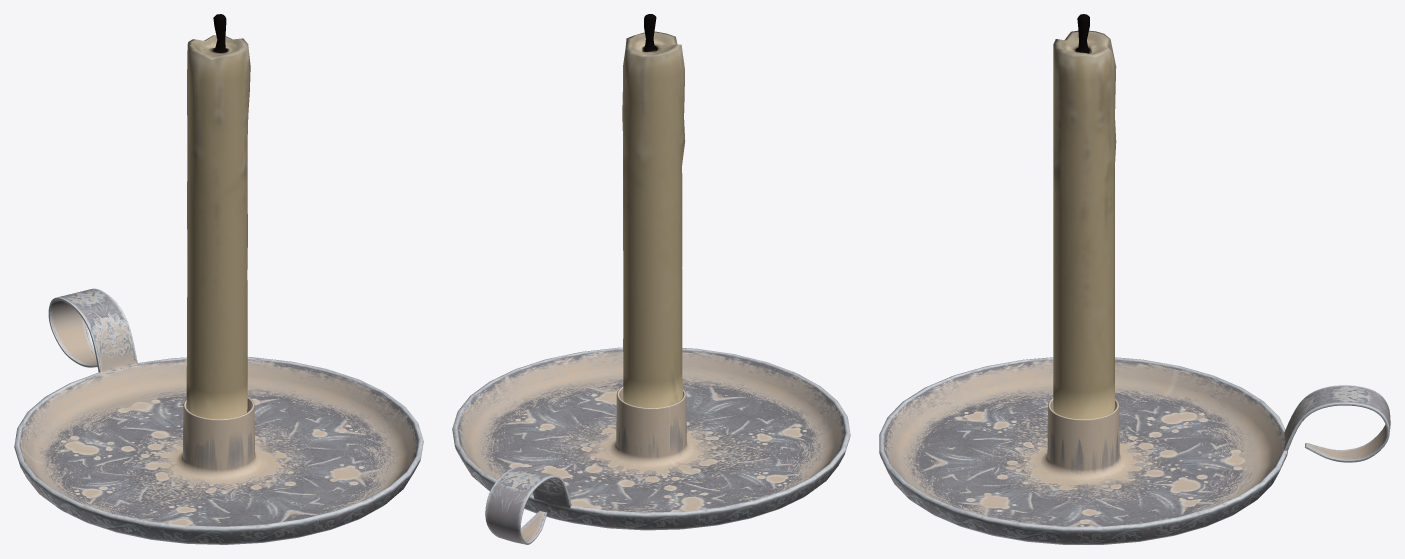
File: CandleHolder2.fbx
3 views of the same model, side by side, from view 1: azimuth 30°, elevation 25°; view 2: azimuth 150°, elevation 25°; view 3: azimuth 270°, elevation 25° (orthographic). The views are drawn at different scales.
Visible parts, largest first — view 1: CandlePlate_01_low, Candle_9.009; view 2: CandlePlate_01_low, Candle_9.009; view 3: CandlePlate_01_low, Candle_9.009.
Part boxes in pixels (x1=…): CandlePlate_01_low: x1=14, y1=288, x2=423, y2=544; Candle_9.009: x1=186, y1=14, x2=250, y2=419; CandlePlate_01_low: x1=452, y1=347, x2=850, y2=544; Candle_9.009: x1=622, y1=14, x2=685, y2=407; CandlePlate_01_low: x1=879, y1=357, x2=1390, y2=544; Candle_9.009: x1=1053, y1=14, x2=1116, y2=419.
Size of the model in its own units: 126 by 154 by 158.
